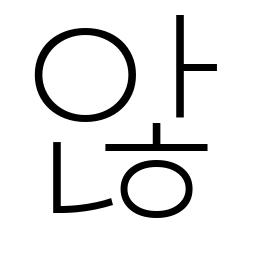Gaji: (162, 48, 203, 88)
